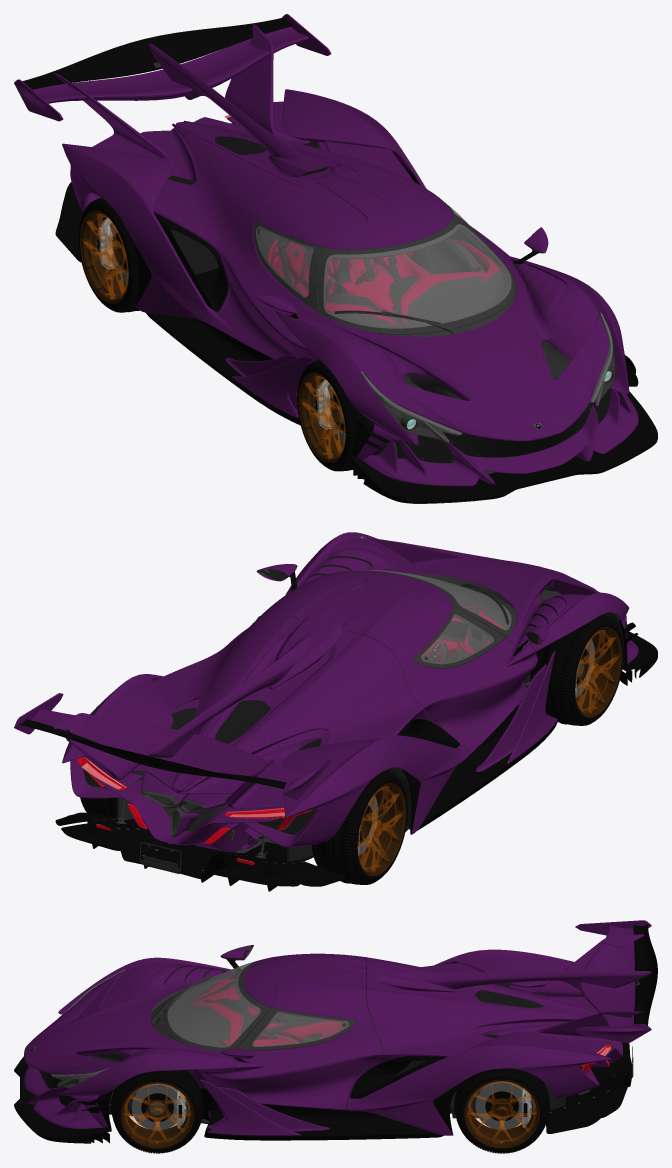
The model's file is ApolloIE.fbx.
3 views of the same model, one above another, from view 1: azimuth 30°, elevation 25°; view 2: azimuth 150°, elevation 25°; view 3: azimuth 270°, elevation 25° (orthographic). The views are drawn at different scales.
Parts seen in each view (by area): view 1: apolloie_tailgate, apolloie_hood, apolloie_body, apolloie_bumper_F, apolloie_windshield, apolloie_body2, apolloie_door_R, apolloie_interior, apolloie_door_L, Object_4.004, Object_4.002, apolloie_rim.003 (+7 smaller); view 2: apolloie_tailgate, apolloie_body, apolloie_door_R, apolloie_hood, apolloie_bumper_R, Object_4.002, Object_4.004, apolloie_body2, apolloie_rim.003, apolloie_rim.002, apolloie_door_L, apolloie_interior (+9 smaller); view 3: apolloie_tailgate, apolloie_body, apolloie_hood, apolloie_door_L, apolloie_interior, apolloie_windshield, Object_4.001, apolloie_bumper_F, Object_4.003, apolloie_body2, apolloie_bumper_R, apolloie_rim.001 (+6 smaller).
Boxes of the visible parts, x1=… form: apolloie_tailgate: x1=14, y1=14, x2=414, y2=246; apolloie_hood: x1=288, y1=262, x2=638, y2=459; apolloie_body: x1=70, y1=117, x2=542, y2=456; apolloie_bumper_F: x1=350, y1=389, x2=657, y2=503; apolloie_windshield: x1=323, y1=224, x2=511, y2=328; apolloie_body2: x1=140, y1=117, x2=615, y2=474; apolloie_door_R: x1=212, y1=182, x2=366, y2=358; apolloie_interior: x1=268, y1=182, x2=511, y2=328; apolloie_door_L: x1=341, y1=169, x2=529, y2=273; Object_4.004: x1=78, y1=197, x2=139, y2=312; Object_4.002: x1=297, y1=359, x2=355, y2=471; apolloie_rim.003: x1=80, y1=211, x2=128, y2=303; apolloie_tailgate: x1=14, y1=615, x2=424, y2=817; apolloie_body: x1=70, y1=563, x2=624, y2=861; apolloie_door_R: x1=341, y1=588, x2=535, y2=753; apolloie_hood: x1=289, y1=532, x2=638, y2=707; apolloie_bumper_R: x1=55, y1=798, x2=345, y2=891; Object_4.002: x1=530, y1=614, x2=623, y2=725; Object_4.004: x1=311, y1=770, x2=407, y2=884; apolloie_body2: x1=81, y1=556, x2=562, y2=853; apolloie_rim.003: x1=357, y1=783, x2=405, y2=875; apolloie_rim.002: x1=575, y1=627, x2=621, y2=716; apolloie_door_L: x1=213, y1=574, x2=366, y2=654; apolloie_interior: x1=339, y1=579, x2=511, y2=660; apolloie_tailgate: x1=366, y1=920, x2=657, y2=1082; apolloie_body: x1=60, y1=957, x2=622, y2=1140; apolloie_hood: x1=24, y1=957, x2=244, y2=1127; apolloie_door_L: x1=234, y1=977, x2=382, y2=1110; apolloie_interior: x1=167, y1=966, x2=347, y2=1047; apolloie_windshield: x1=167, y1=961, x2=260, y2=1047; Object_4.001: x1=454, y1=1068, x2=549, y2=1153; apolloie_bumper_F: x1=14, y1=1056, x2=111, y2=1143; Object_4.003: x1=111, y1=1070, x2=203, y2=1153; apolloie_body2: x1=39, y1=958, x2=613, y2=1109; apolloie_bumper_R: x1=546, y1=1042, x2=633, y2=1133; apolloie_rim.001: x1=465, y1=1080, x2=539, y2=1147.
Bounding box in the file's own units: 196 × 113 × 483.
39 materials, 3 textured.
